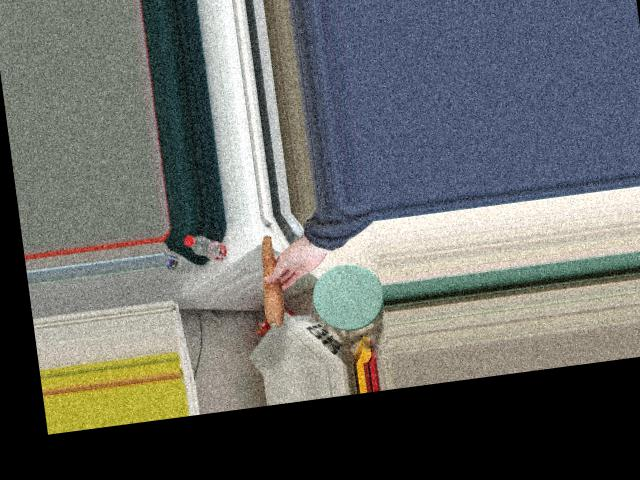sweet_potato: (253, 232, 294, 326)
